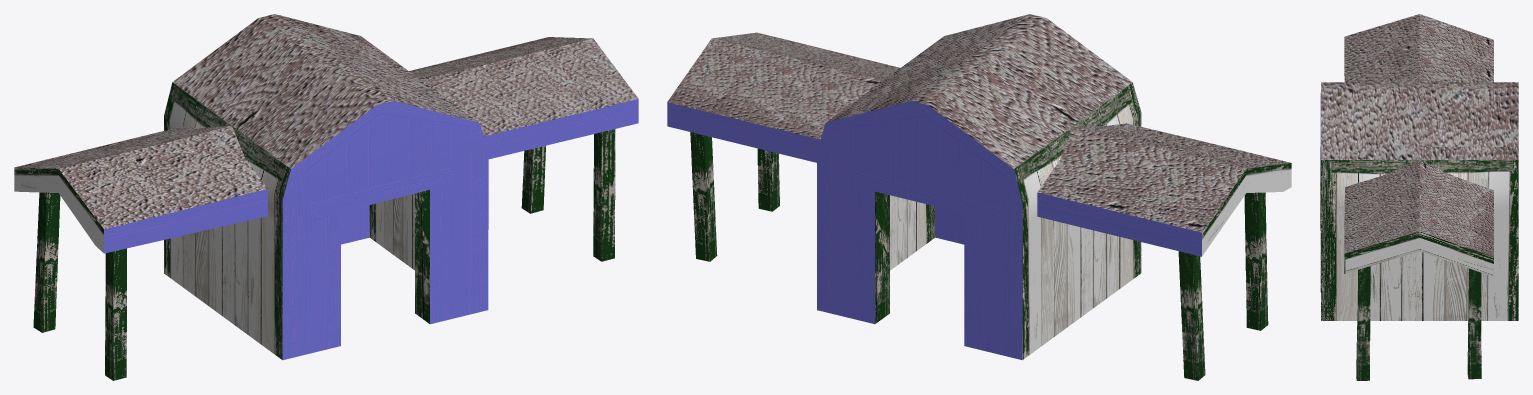
File: NewStation.fbx
The picture shows the model from 3 angles, left to right: view 1: azimuth 30°, elevation 25°; view 2: azimuth 150°, elevation 25°; view 3: azimuth 270°, elevation 25°; orthographic projection. The views are drawn at different scales.
Parts seen in each view (by area): view 1: NewStation; view 2: NewStation; view 3: NewStation.
Part boxes in pixels (x1=…): NewStation: x1=14, y1=14, x2=638, y2=380; NewStation: x1=667, y1=14, x2=1291, y2=380; NewStation: x1=1320, y1=14, x2=1518, y2=380.
Size of the model in its own units: 1300 by 540 by 502.
